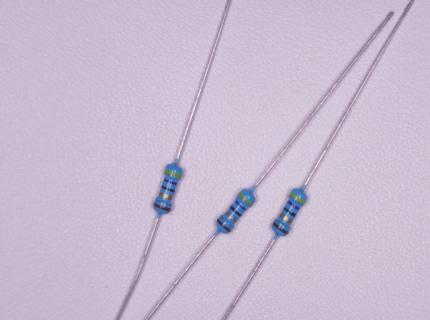Black band: (283, 206, 297, 218), (229, 205, 242, 217), (161, 185, 176, 193)
Brown band: (216, 218, 232, 233), (272, 221, 289, 235), (153, 202, 172, 212)
Gold band: (279, 212, 294, 225), (224, 210, 237, 224), (158, 191, 173, 201)
Violet band: (286, 200, 300, 211), (234, 200, 247, 211), (163, 178, 178, 186)
Yellow band: (238, 191, 253, 206), (290, 191, 306, 205), (164, 169, 183, 179)
